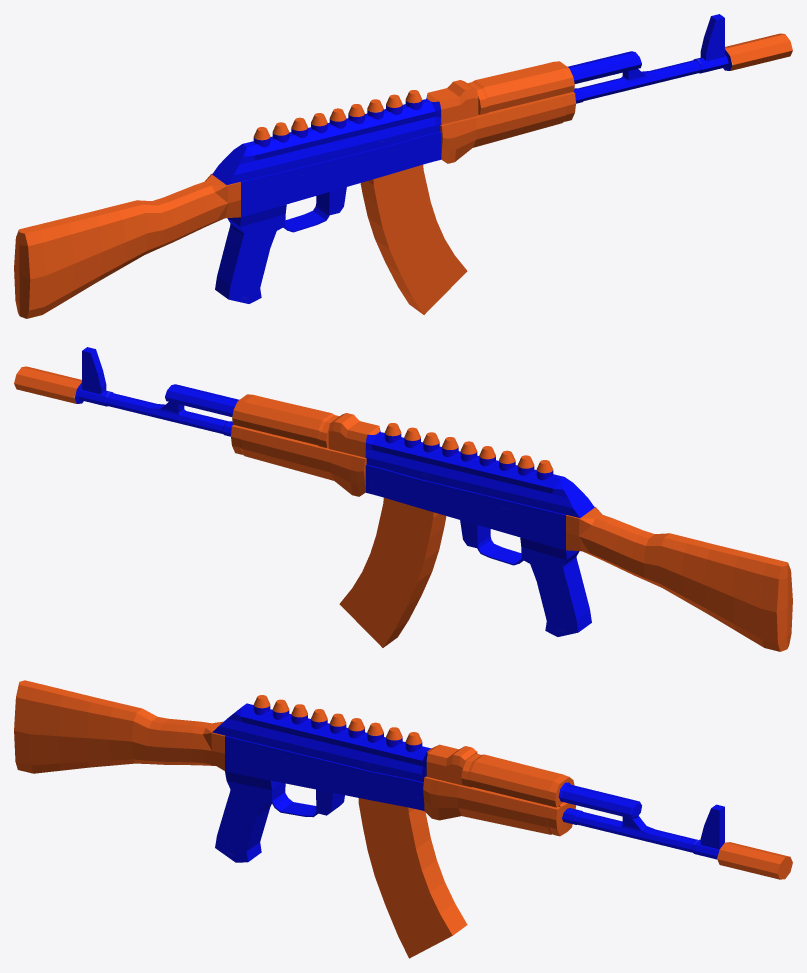
3 views of the same model, one above another, from view 1: azimuth 30°, elevation 25°; view 2: azimuth 150°, elevation 25°; view 3: azimuth 330°, elevation 25° (orthographic).
Visible parts, largest first — view 1: AK, Charger; view 2: AK, Charger; view 3: AK, Charger.
Part boxes in pixels (x1=…): AK: x1=14, y1=14, x2=792, y2=318; Charger: x1=360, y1=164, x2=467, y2=314; AK: x1=14, y1=347, x2=792, y2=651; Charger: x1=339, y1=497, x2=446, y2=647; AK: x1=14, y1=680, x2=792, y2=879; Charger: x1=358, y1=798, x2=467, y2=958.
Bounding box in the file's own units: 703 × 192 × 31.45.
Materials: 2 (2 with a texture image).
